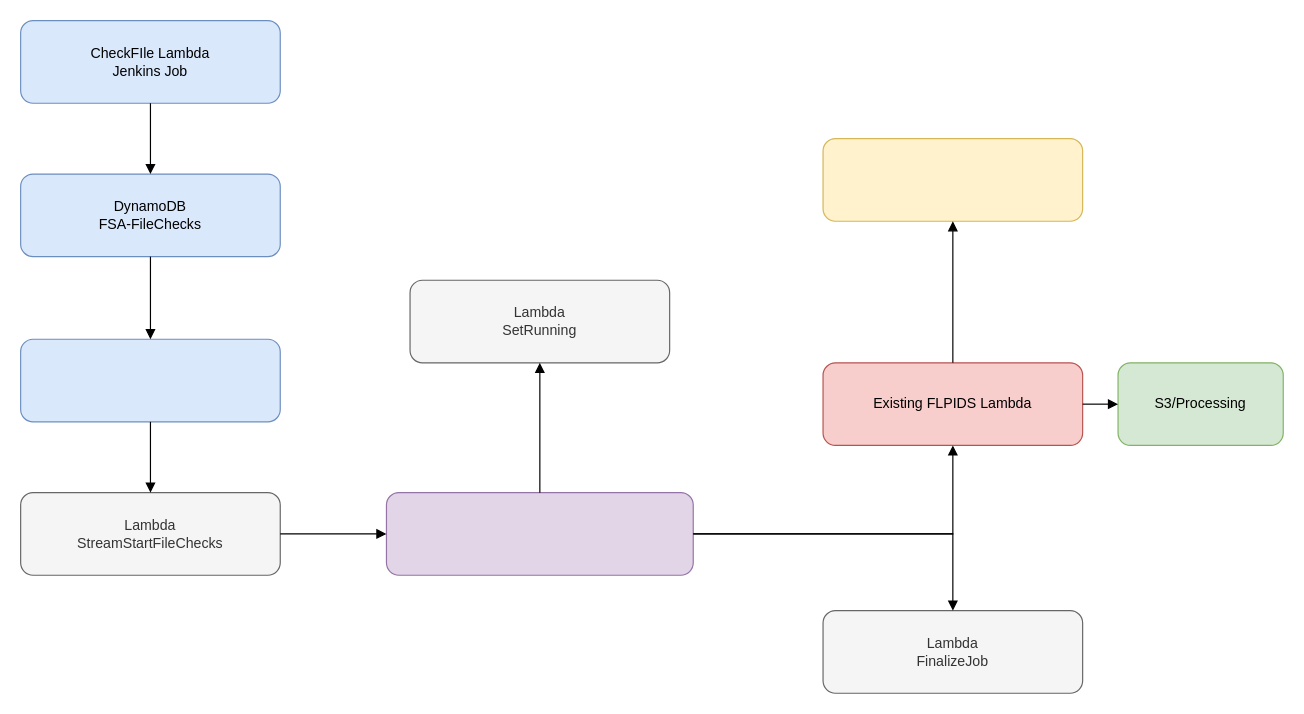
Some shapes in this 1304 by 714 pixel diagram are drawn without their labels. The box of each missing label's shape, as (x1, y1, x2, y2) in pixels:
DynamoDB Stream: (19, 338, 280, 422)
FTPS ECHO Server: (822, 137, 1083, 221)
Step Functions FileChecks State Machine: (385, 491, 693, 575)
